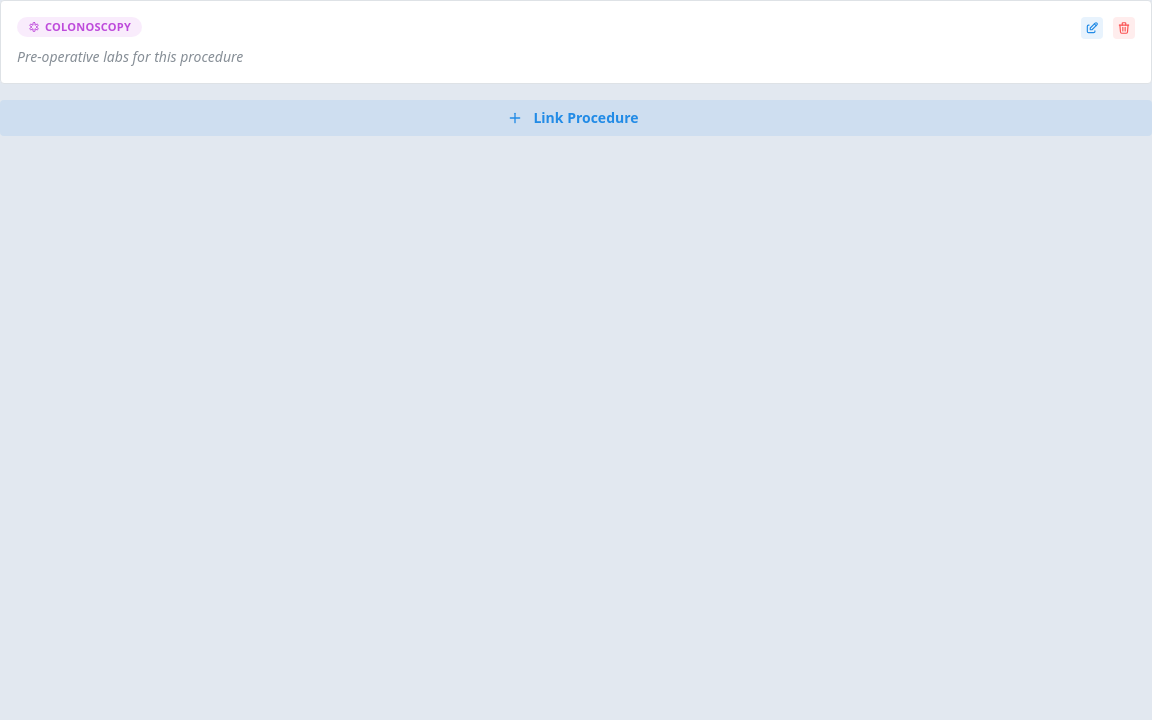
Scenario: LabResultProcedureRelationships Component › Modal Functionality › should open modal when Add button is clicked
Click the button "Link Procedure".
click(576, 118)  # box [0, 100, 1151, 136]
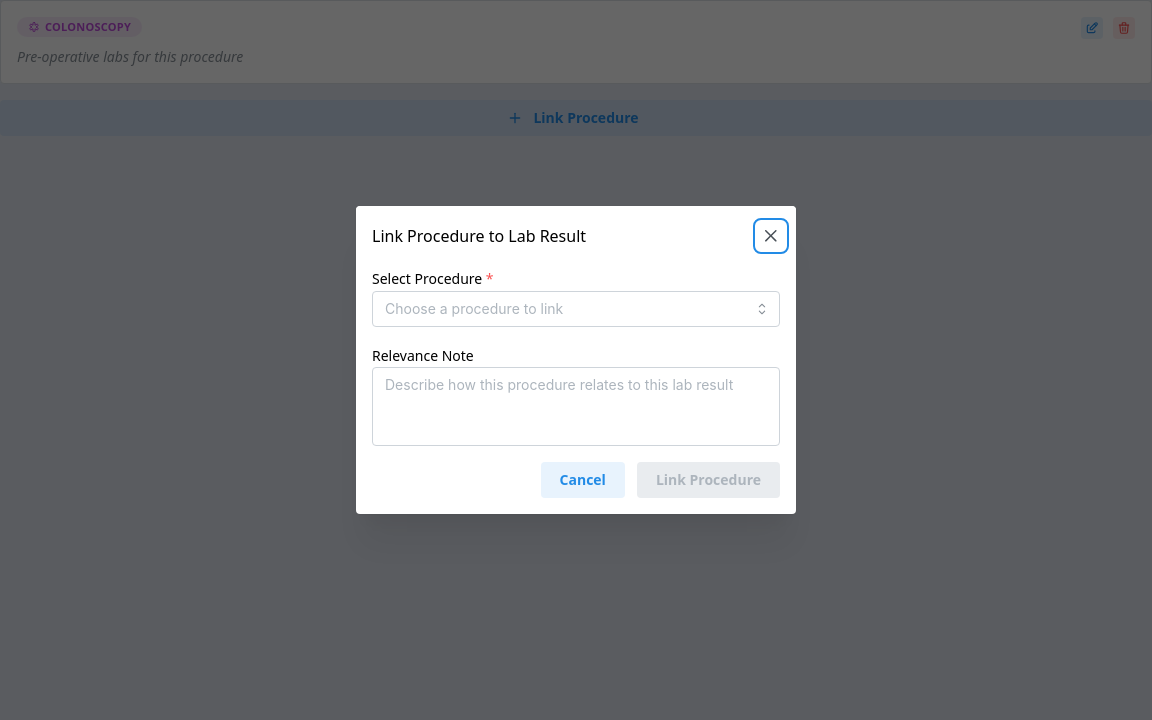
Check: the heading "Link Procedure to Lab Result" is shown, box [372, 228, 586, 244]
